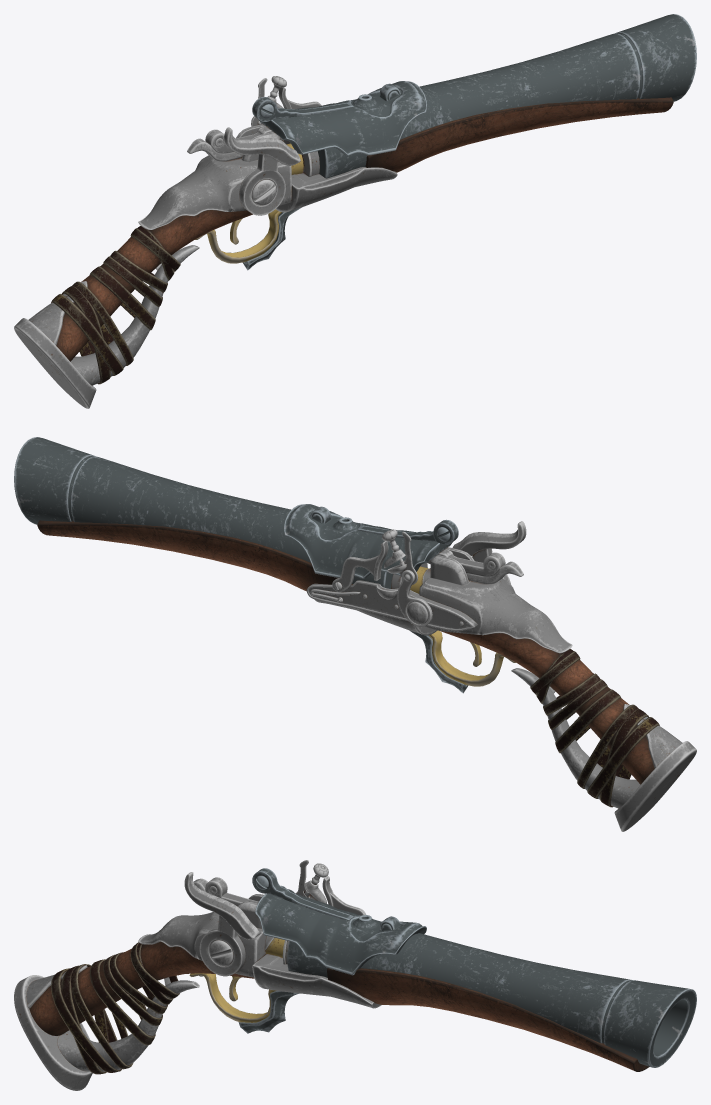
Rendered from OldPistol.glb.
The picture shows the model from 3 angles, top to bottom: view 1: azimuth 30°, elevation 25°; view 2: azimuth 150°, elevation 25°; view 3: azimuth 330°, elevation 25°; orthographic projection.
Parts seen in each view (by area): view 1: Canna, Canna1, Canna4, ManicoCopertura1, Manico, pCylinder13, pCylinder2, Canna5, pCylinder3, pCylinder6, polySurface2, pCylinder5 (+8 smaller); view 2: Canna, Canna1, ManicoCopertura1, Canna4, Manico, polySurface3, pCylinder2, pCylinder3, pCylinder13, pCube3, pCylinder6, polySurface2 (+11 smaller); view 3: Canna, Canna1, Canna4, Manico, ManicoCopertura1, pCylinder13, pCylinder2, Canna5, pCylinder3, pCylinder6, pCylinder5, pCylinder7 (+12 smaller).
Part boxes in pixels (left/top/right/bottom): Canna: left=318, top=14, right=696, bottom=178; Canna1: left=365, top=97, right=673, bottom=172; Canna4: left=258, top=81, right=426, bottom=155; ManicoCopertura1: left=138, top=124, right=291, bottom=229; Manico: left=56, top=210, right=252, bottom=361; pCylinder13: left=224, top=127, right=300, bottom=215; pCylinder2: left=14, top=318, right=96, bottom=408; Canna5: left=276, top=166, right=397, bottom=212; pCylinder3: left=70, top=245, right=199, bottom=385; pCylinder6: left=51, top=294, right=123, bottom=375; polySurface2: left=195, top=209, right=281, bottom=263; pCylinder5: left=89, top=266, right=155, bottom=330; Canna: left=14, top=437, right=392, bottom=588; Canna1: left=37, top=520, right=337, bottom=591; ManicoCopertura1: left=419, top=547, right=572, bottom=653; Canna4: left=284, top=504, right=452, bottom=578; Manico: left=439, top=630, right=654, bottom=784; polySurface3: left=306, top=580, right=478, bottom=631; pCylinder2: left=614, top=741, right=696, bottom=831; pCylinder3: left=511, top=668, right=640, bottom=808; pCylinder13: left=452, top=521, right=526, bottom=583; pCube3: left=427, top=549, right=523, bottom=584; pCylinder6: left=587, top=717, right=659, bottom=798; polySurface2: left=429, top=630, right=515, bottom=686; Canna: left=287, top=933, right=696, bottom=1067; Canna1: left=327, top=968, right=649, bottom=1071; Canna4: left=255, top=885, right=426, bottom=975; Manico: left=29, top=941, right=254, bottom=1035; ManicoCopertura1: left=138, top=894, right=266, bottom=977; pCylinder13: left=184, top=872, right=261, bottom=976; pCylinder2: left=14, top=975, right=92, bottom=1090; Canna5: left=252, top=954, right=381, bottom=1008; pCylinder3: left=57, top=980, right=199, bottom=1071; pCylinder6: left=51, top=968, right=121, bottom=1072; pCylinder5: left=89, top=959, right=155, bottom=1045; pCylinder7: left=71, top=964, right=133, bottom=1069.
Size of the model in its own units: 17 by 6.44 by 2.2.
2 materials, 2 textured.
